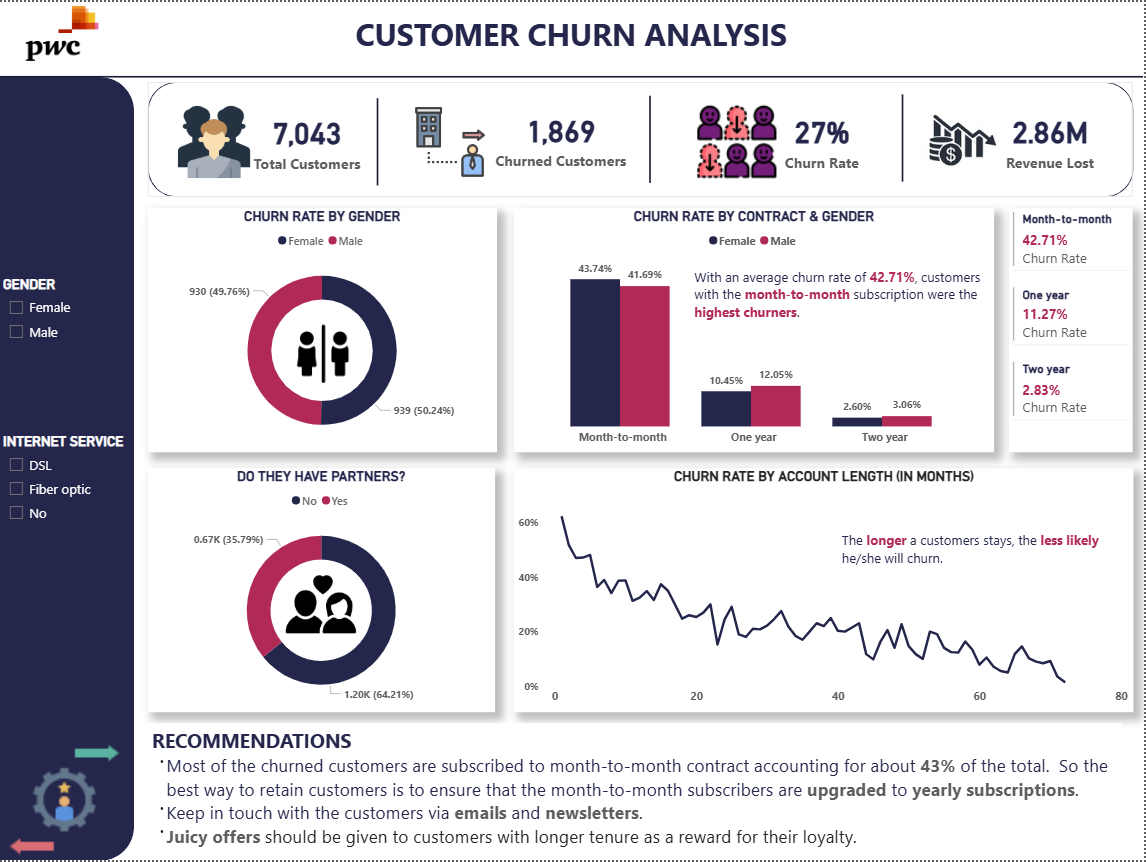

The dashboard page shown, as its layout file describes it:
{"tool":"powerbi","page":{"name":"Customer Churn Dashboard","canvas":[1400,1050],"ordinal":0},"visuals":[{"type":"image","box":[1063,79,228.4,172.9],"z":0},{"type":"shape","box":[1009.5,113.1,192.1,106.7],"z":1000},{"type":"donutChart","title":"CHURN RATE BY GENDER","fields":{"Category":["01 Churn-Dataset.gender"],"Y":["Measures_.TotalChurned"]},"box":[181.4,251.8,426.8,298.8],"z":2000},{"type":"shape","box":[700,115.2,192.1,106.7],"z":3000},{"type":"shape","box":[181.4,98.2,1205.8,140.9],"z":4000},{"type":"shape","box":[0,91.4,165.3,958.6],"z":5000},{"type":"image","box":[0,0,154.3,77.1],"z":6000},{"type":"textbox","box":[408.3,9.7,583.3,77.8],"z":7000},{"type":"card","fields":{"Values":["Measures_.TotalChurned"]},"box":[597.6,98.2,179.3,136.6],"z":8000},{"type":"shape","box":[0,48.8,1399.4,85],"z":9000},{"type":"card","fields":{"Values":["Measures_.Churn Rate"]},"box":[924.1,98.2,166.5,140.9],"z":10000},{"type":"card","fields":{"Values":["Measures_.TotalNumOfCustomer"]},"box":[290.2,111,172.9,115.2],"z":11000},{"type":"donutChart","title":"DO THEY HAVE PARTNERS?","fields":{"Category":["01 Churn-Dataset.Partner"],"Y":["Measures_.TotalChurned"]},"box":[181.4,569.8,424.7,298.8],"z":12000},{"type":"lineChart","title":"CHURN RATE BY ACCOUNT  LENGTH (IN MONTHS) ","fields":{"Y":["Measures_.Churn Rate"],"Category":["01 Churn-Dataset.tenure"]},"box":[629.6,569.8,757.6,298.8],"z":13000},{"type":"clusteredColumnChart","title":"CHURN RATE BY CONTRACT & GENDER","fields":{"Category":["01 Churn-Dataset.Contract"],"Y":["Measures_.Churn Rate"],"Series":["01 Churn-Dataset.gender"]},"box":[629.6,251.8,586.9,298.8],"z":14000},{"type":"slicer","title":"INTERNET SERVICE","fields":{"Values":["01 Churn-Dataset.InternetService"]},"box":[0,527.1,164.3,153.7],"z":16000},{"type":"multiRowCard","title":"CONTRACT & CHURNED RATE","fields":{"Values":["01 Churn-Dataset.Contract","Measures_.Churn Rate"]},"box":[1235.7,251.8,151.5,298.8],"z":17000},{"type":"textbox","box":[181.4,881.4,1190.9,168.6],"z":18000},{"type":"textbox","box":[1026.5,642.4,341.5,64],"z":19000},{"type":"card","fields":{"Values":["Measures_.ChurnedRev"]},"box":[1197.3,98.2,177.1,140.9],"z":20000},{"type":"image","box":[209.1,119.5,106.7,104.6],"z":21000},{"type":"textbox","box":[845.1,320.1,362.8,81.1],"z":22000},{"type":"image","box":[488,121.6,128,98.2],"z":23000},{"type":"shape","box":[367.1,117.4,192.1,106.7],"z":24000},{"type":"image","box":[335.1,680.8,117.4,113.1],"z":25000},{"type":"image","box":[350,390.5,91.8,81.1],"z":26000},{"type":"image","box":[0,902.7,160.1,147.3],"z":27000},{"type":"image","box":[815.2,117.4,175,106.7],"z":28000},{"type":"slicer","title":"GENDER","fields":{"Values":["01 Churn-Dataset.gender"]},"box":[0,335.1,164.3,130.2],"z":28001}]}

Visuals, with their boxes in screenshot pixels (x1, y1, x2, y2), scaled from the page's 1400x1050 canvas onto the 1146x862 screenshot:
image: x1=870, y1=65, x2=1057, y2=207
shape: x1=826, y1=93, x2=984, y2=180
"CHURN RATE BY GENDER" donutChart: x1=148, y1=207, x2=498, y2=452
shape: x1=573, y1=95, x2=730, y2=182
shape: x1=148, y1=81, x2=1136, y2=196
shape: x1=0, y1=75, x2=135, y2=861
image: x1=0, y1=0, x2=126, y2=63
textbox: x1=334, y1=8, x2=812, y2=72
card - Measures_.TotalChurned: x1=489, y1=81, x2=636, y2=193
shape: x1=0, y1=40, x2=1145, y2=110
card - Measures_.Churn Rate: x1=756, y1=81, x2=893, y2=196
card - Measures_.TotalNumOfCustomer: x1=238, y1=91, x2=379, y2=186
"DO THEY HAVE PARTNERS?" donutChart: x1=148, y1=468, x2=496, y2=713
"CHURN RATE BY ACCOUNT  LENGTH (IN MONTHS) " lineChart: x1=515, y1=468, x2=1136, y2=713
"CHURN RATE BY CONTRACT & GENDER" clusteredColumnChart: x1=515, y1=207, x2=996, y2=452
"INTERNET SERVICE" slicer: x1=0, y1=433, x2=134, y2=559
"CONTRACT & CHURNED RATE" multiRowCard: x1=1012, y1=207, x2=1136, y2=452
textbox: x1=148, y1=724, x2=1123, y2=861
textbox: x1=840, y1=527, x2=1120, y2=580
card - Measures_.ChurnedRev: x1=980, y1=81, x2=1125, y2=196
image: x1=171, y1=98, x2=259, y2=184
textbox: x1=692, y1=263, x2=989, y2=329
image: x1=399, y1=100, x2=504, y2=180
shape: x1=300, y1=96, x2=458, y2=184
image: x1=274, y1=559, x2=370, y2=652
image: x1=286, y1=321, x2=362, y2=387
image: x1=0, y1=741, x2=131, y2=861
image: x1=667, y1=96, x2=811, y2=184
"GENDER" slicer: x1=0, y1=275, x2=134, y2=382
